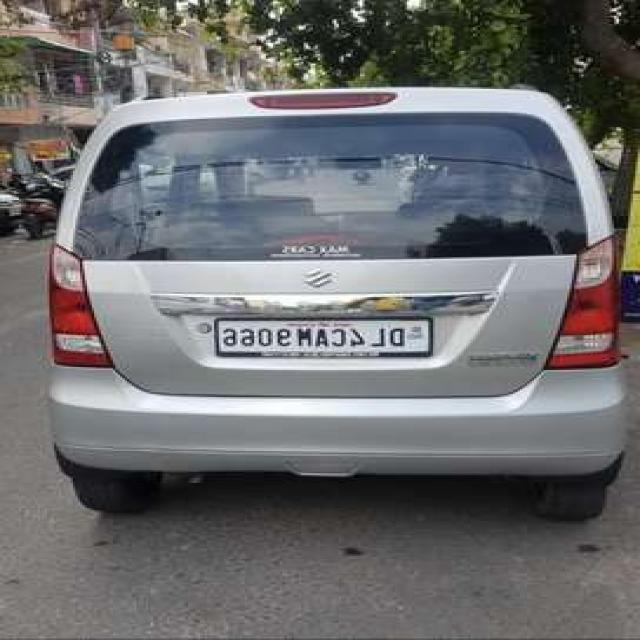license_plate: (212, 315, 434, 361)
